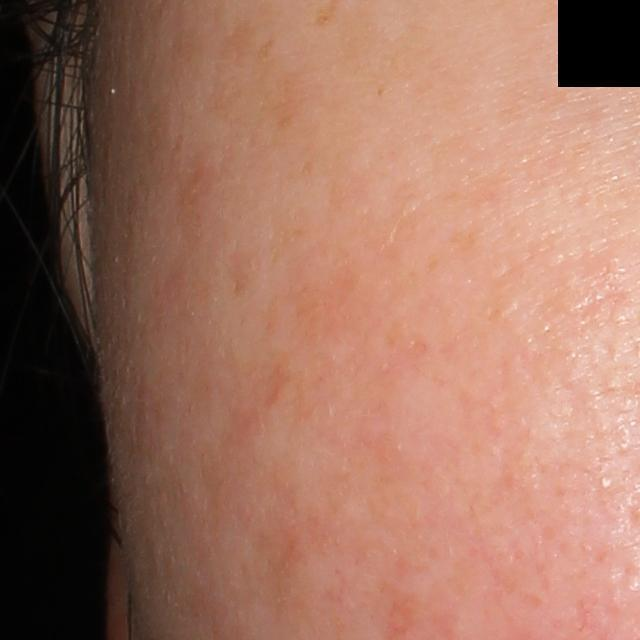melasma: (201, 18, 304, 160), (172, 156, 224, 253), (442, 224, 480, 260), (255, 30, 280, 66)
